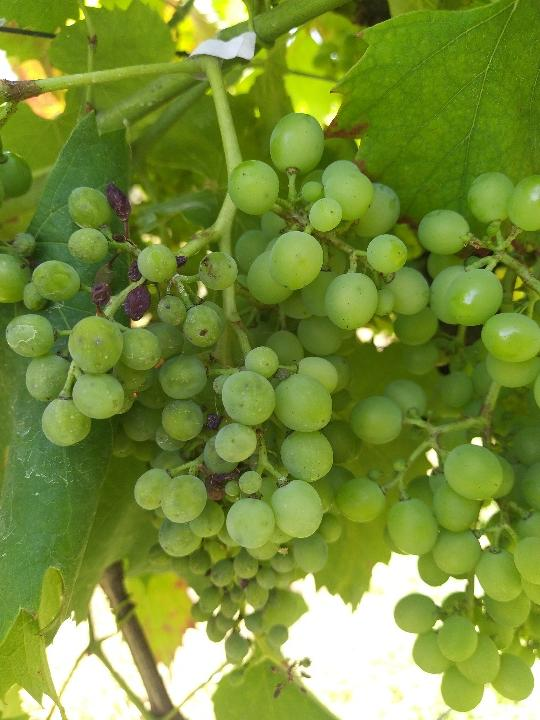grape: (4, 111, 429, 576)
